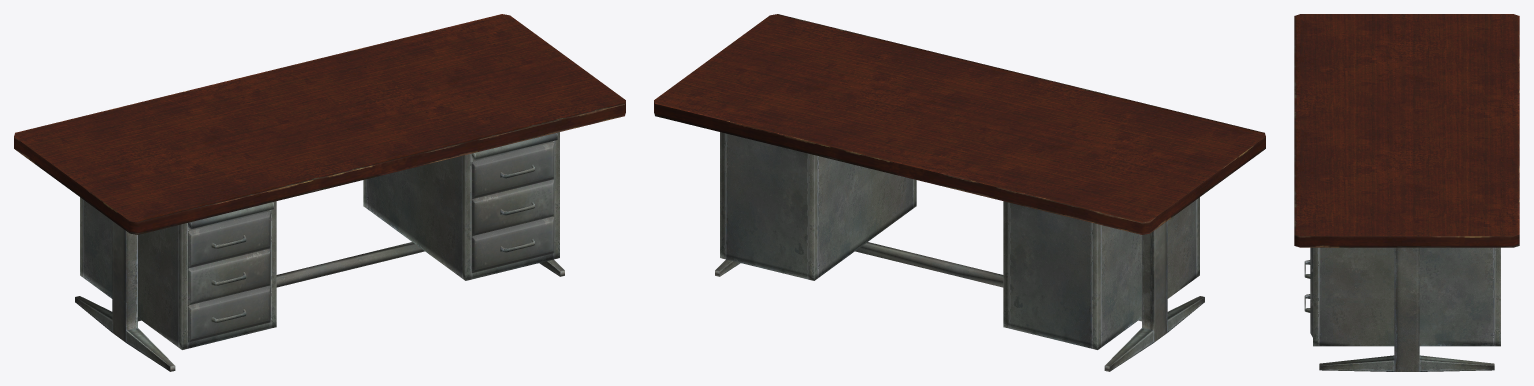
File: escritorio.obj
3 views of the same model, side by side, from view 1: azimuth 30°, elevation 25°; view 2: azimuth 150°, elevation 25°; view 3: azimuth 270°, elevation 25° (orthographic). The views are drawn at different scales.
Visible parts, largest first — view 1: escritorio; view 2: escritorio; view 3: escritorio.
Boxes of the visible parts, <box> form: escritorio: <box>14,14,625,371</box>; escritorio: <box>654,14,1265,371</box>; escritorio: <box>1294,14,1519,371</box>.
Size of the model in its own units: 168 by 55.2 by 72.
Materials: 1 (1 with a texture image).
